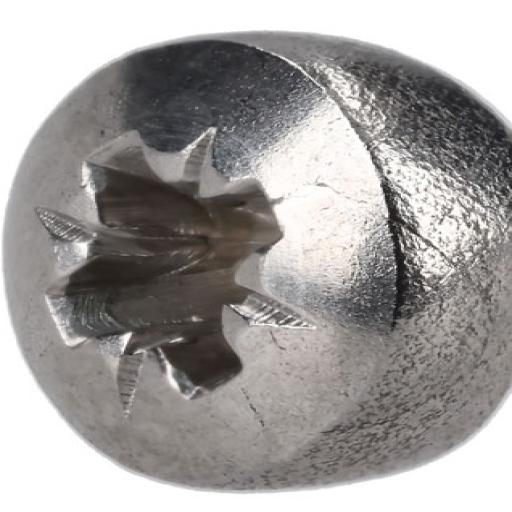Pozidriv: (0, 21, 510, 498)
